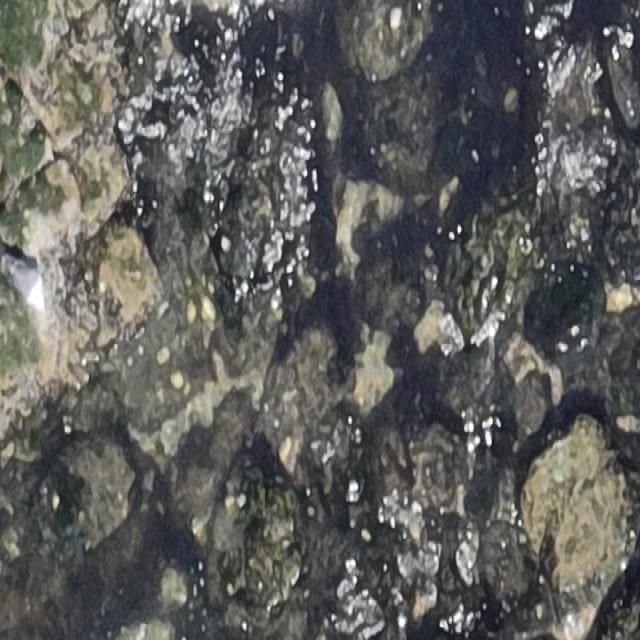umineko: (4, 248, 49, 313)
